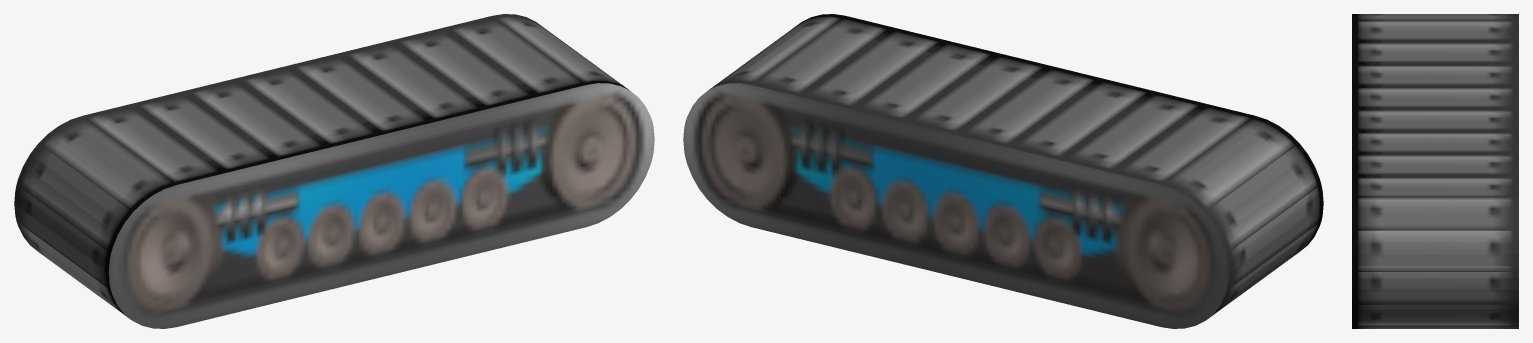
File: subm4.obj
The picture shows the model from 3 angles, left to right: view 1: azimuth 30°, elevation 25°; view 2: azimuth 150°, elevation 25°; view 3: azimuth 270°, elevation 25°; orthographic projection. The views are drawn at different scales.
Parts seen in each view (by area): view 1: ColobotMesh_1_ColobotMesh_.001; view 2: ColobotMesh_1_ColobotMesh_.001; view 3: ColobotMesh_1_ColobotMesh_.001.
Part boxes in pixels (x1=…): ColobotMesh_1_ColobotMesh_.001: x1=14, y1=14, x2=654, y2=328; ColobotMesh_1_ColobotMesh_.001: x1=683, y1=14, x2=1323, y2=328; ColobotMesh_1_ColobotMesh_.001: x1=1352, y1=14, x2=1518, y2=328.
Size of the model in its own units: 8.01 by 1.99 by 2.4.
